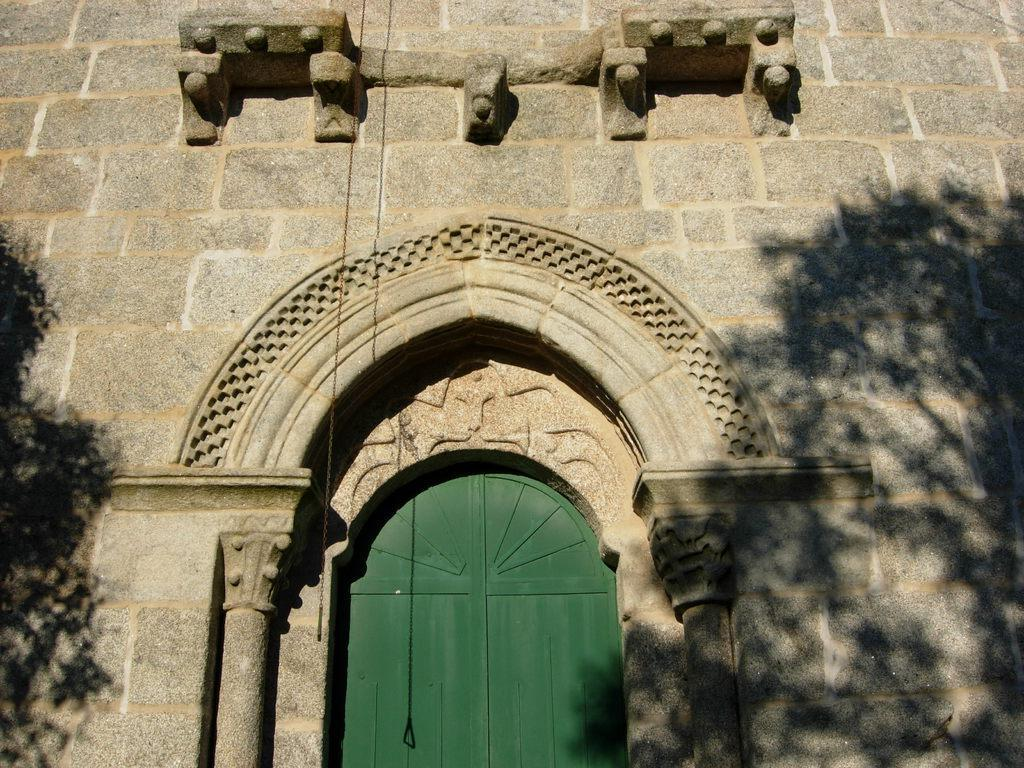door: (353, 507, 484, 768), (488, 506, 586, 768)
